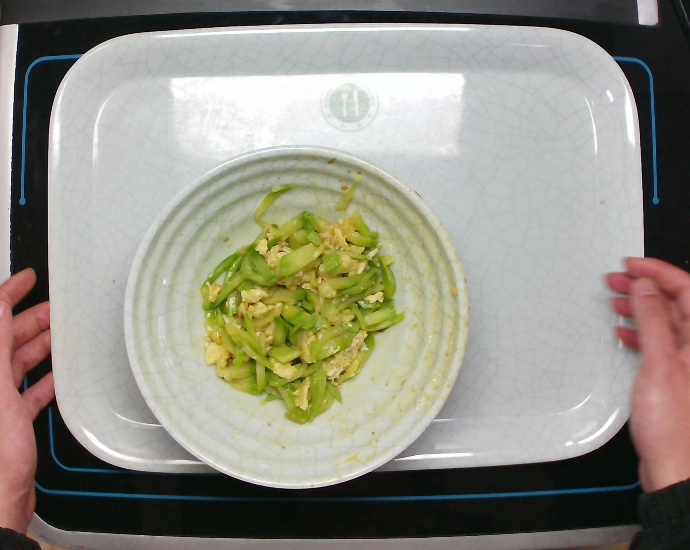JYsf-Da_Tang_Wan: (118, 141, 475, 493)
